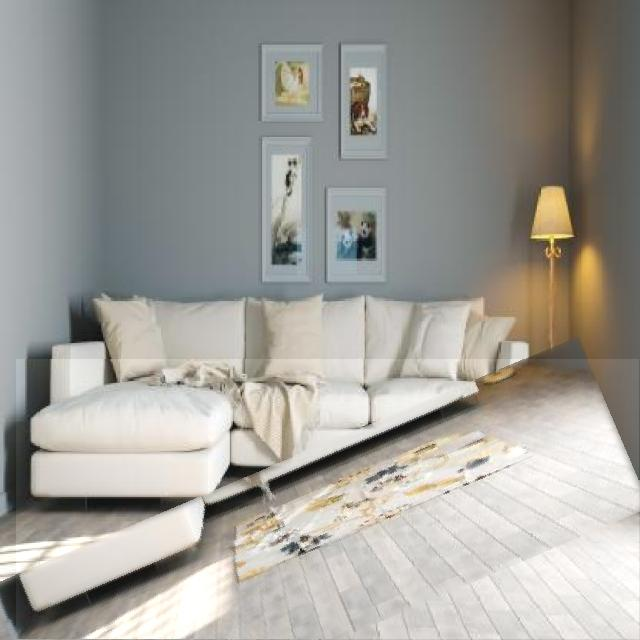floor: (17, 360, 639, 640)
